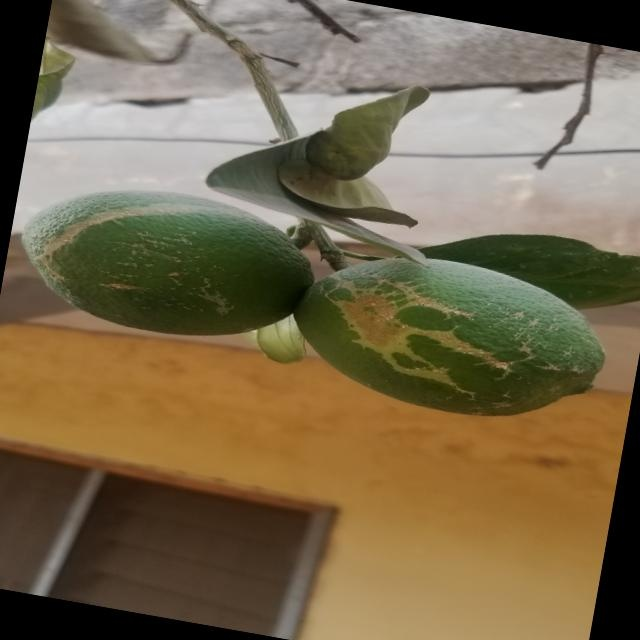agrume: (291, 238, 626, 441), (10, 165, 312, 359)
